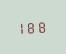eight: (37, 19, 45, 33), (28, 20, 36, 33)
one: (18, 20, 26, 34)
